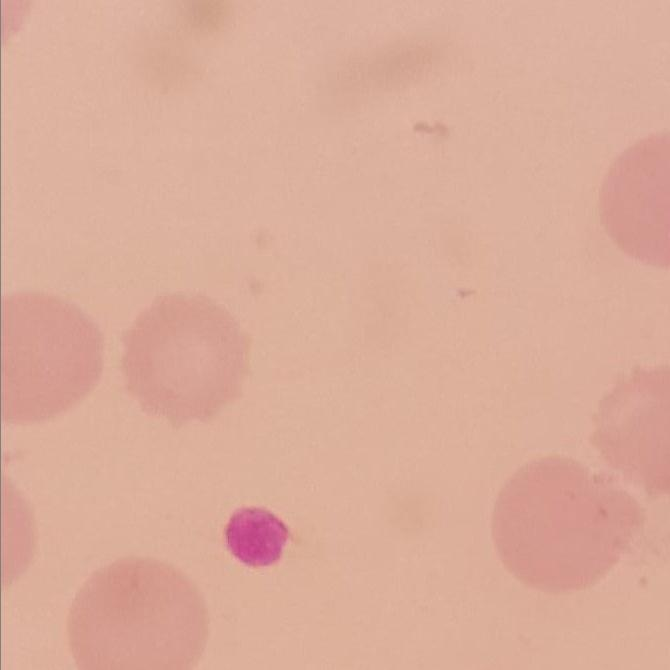Uninfected: (495, 458, 641, 594), (66, 556, 211, 670), (122, 295, 244, 422), (0, 294, 104, 428)
